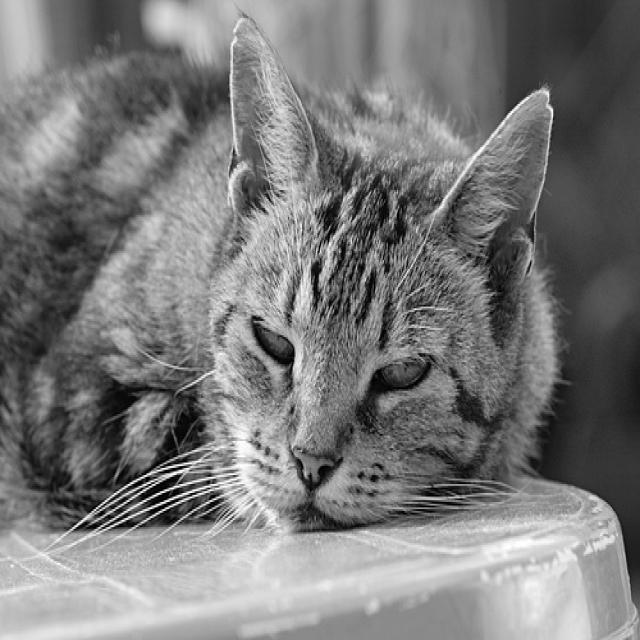cat: (1, 8, 567, 555)
